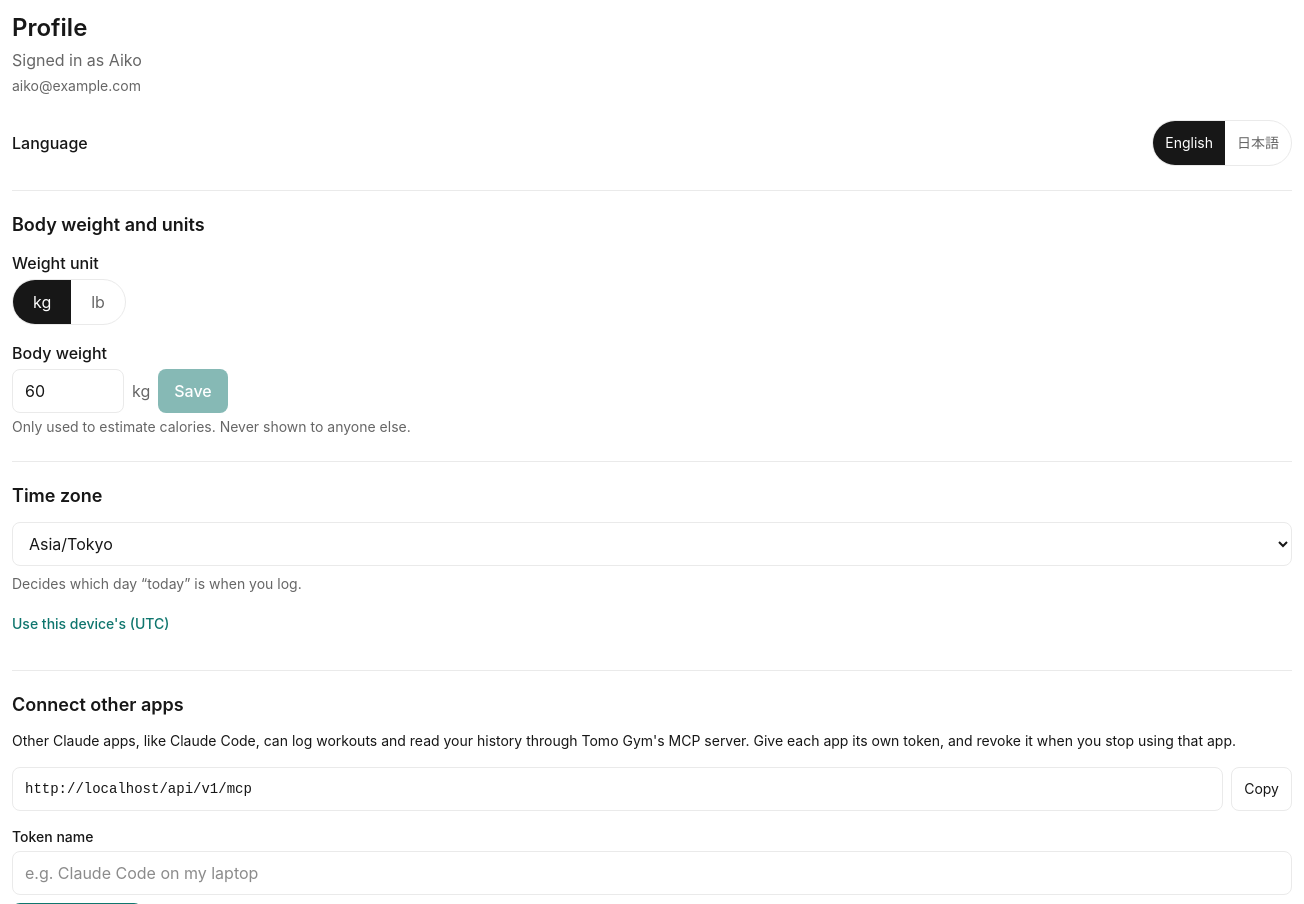
Test: Profile › switching the unit saves it; the weight then shows in the new unit
expect the text "Signed in as Aiko" is shown: met, box [12,50,142,70]
expect the field labelled "Body weight" holds "60": met, box [12,369,124,413]
Click the button "lb".
click(98, 302)  # box [71,280,125,324]
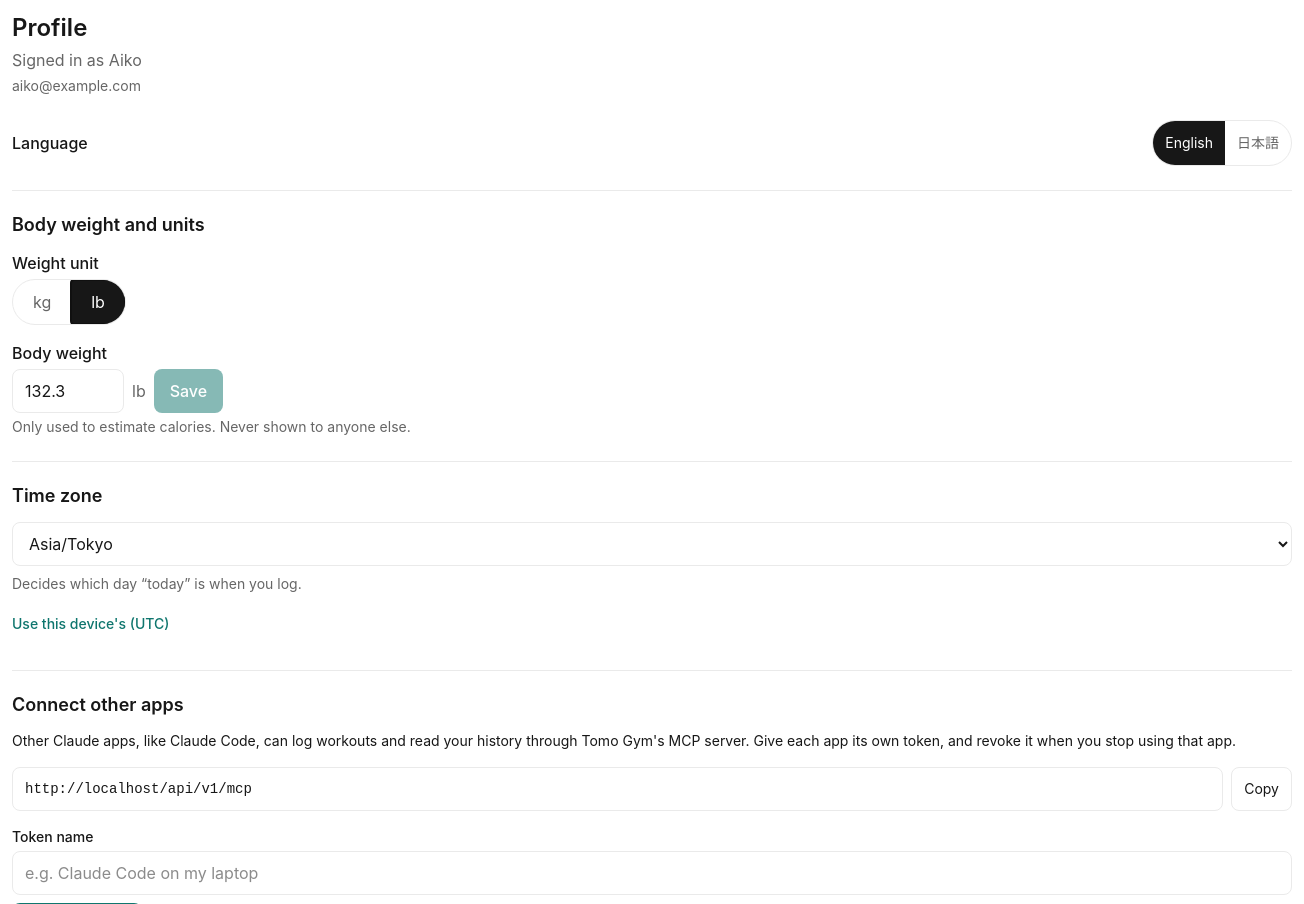
expect the field labelled "Body weight" holds "132.3": met, box [12,369,124,413]
